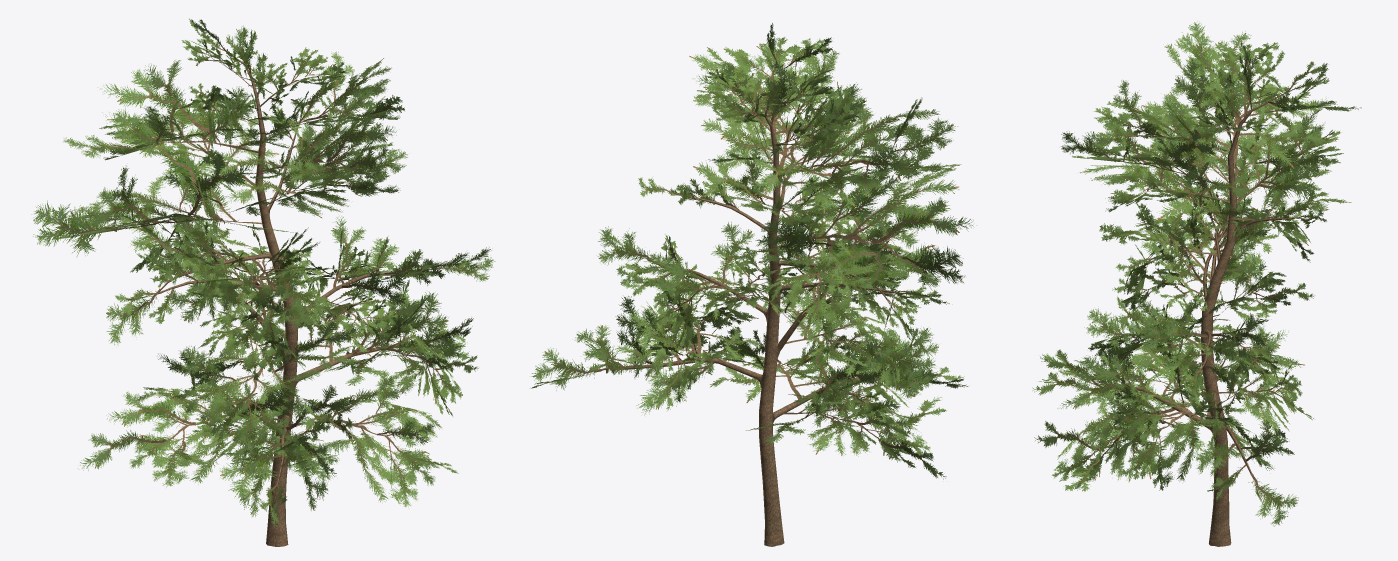
3 renders of one model, left to right at view 1: azimuth 30°, elevation 25°; view 2: azimuth 150°, elevation 25°; view 3: azimuth 270°, elevation 25°, orthographic. The views are drawn at different scales.
Visible parts, largest first — view 1: Pine_small_2_LOD0_Bark_Mat_0; view 2: Pine_small_2_LOD0_Bark_Mat_0; view 3: Pine_small_2_LOD0_Bark_Mat_0.
Boxes of the visible parts, x1,y1,x2,y2 form: Pine_small_2_LOD0_Bark_Mat_0: [31, 18, 495, 546]; Pine_small_2_LOD0_Bark_Mat_0: [531, 23, 973, 546]; Pine_small_2_LOD0_Bark_Mat_0: [1032, 22, 1361, 546].
Size of the model in its own units: 3.82 by 4.04 by 2.74.
